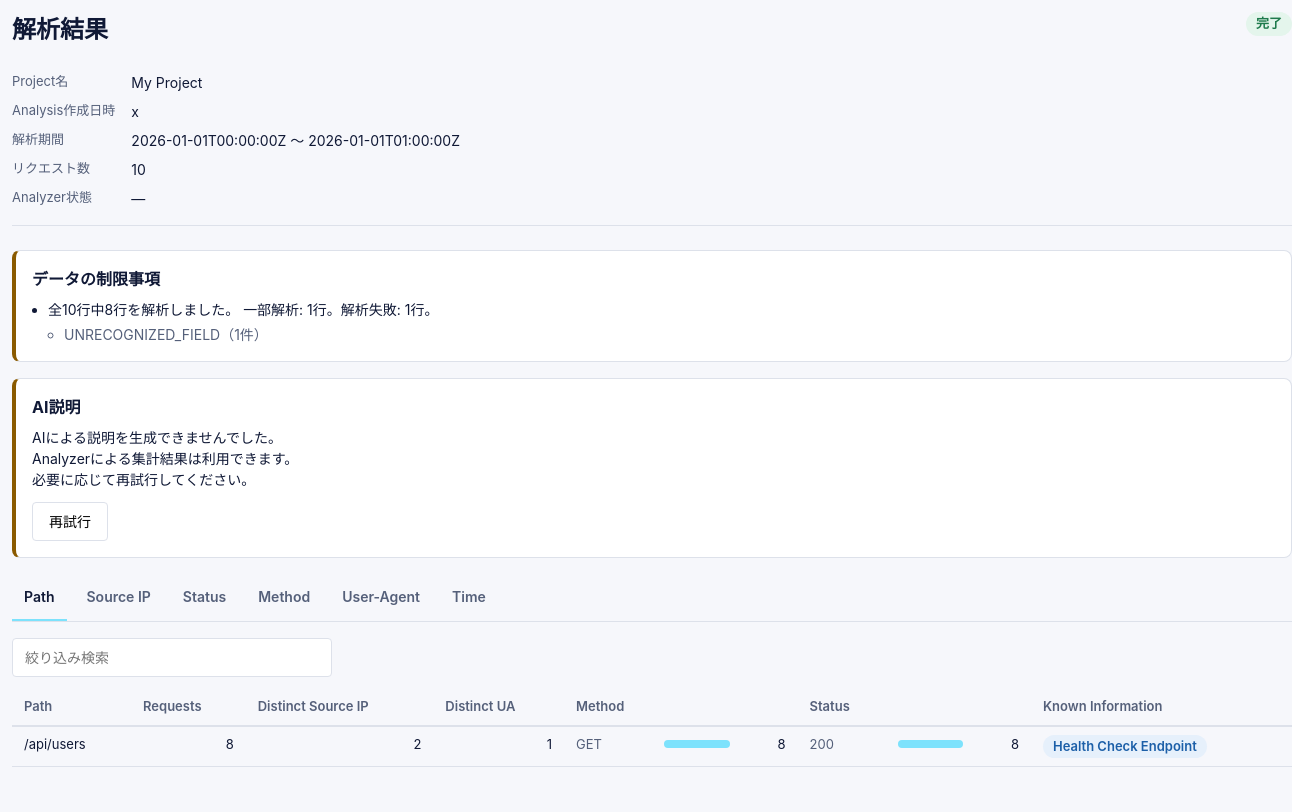
Scenario: AnalysisResultPage › T-WEB-BILL-03: shows the Entitlement Required notice with an upgrade link when a Retry comes back 403
The width and height of the screenshot is (1292, 812).
Click the button with class "ai-status-panel__retry" at (70, 522), box [32,502,108,541]
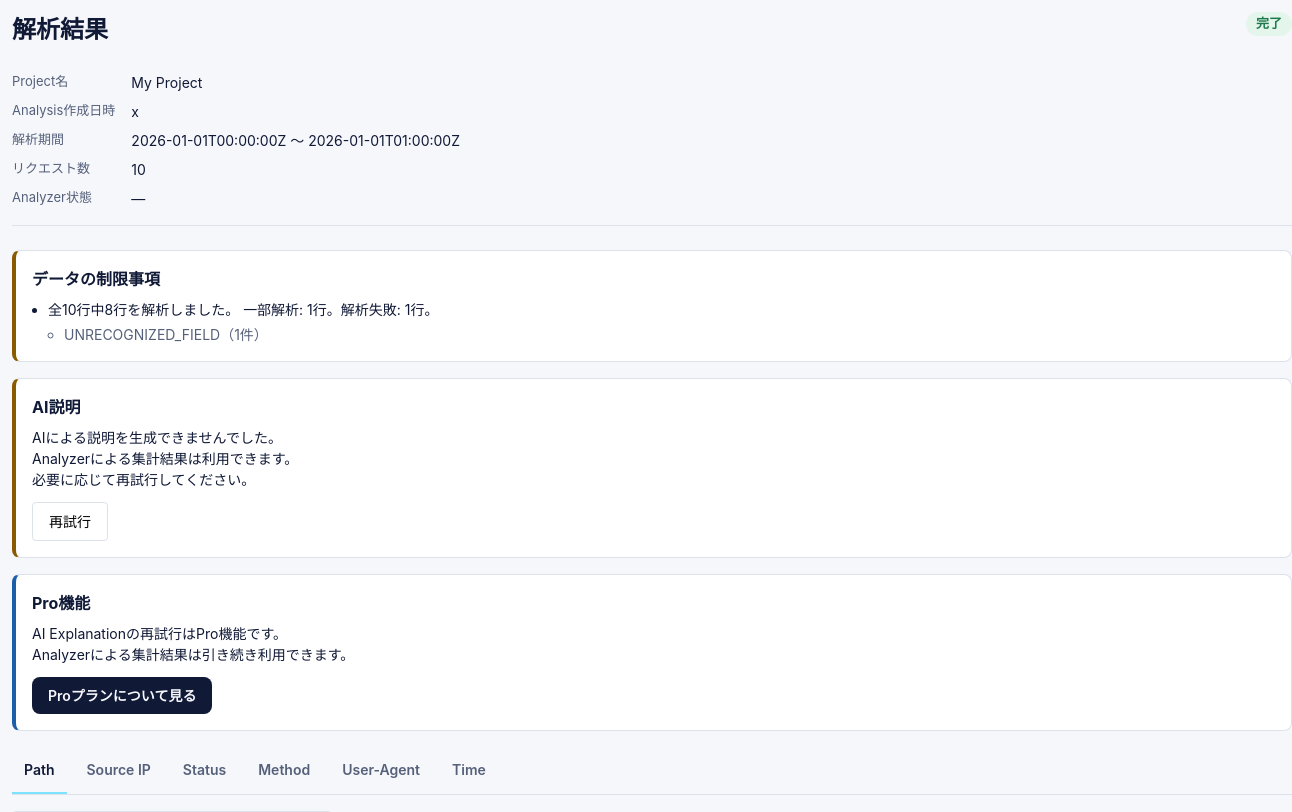
Expected: the element with class "entitlement-required-notice" is shown, [12,574,1291,731]
Expected: the element with class "entitlement-required-notice" shows "Pro機能", [32,593,90,613]
